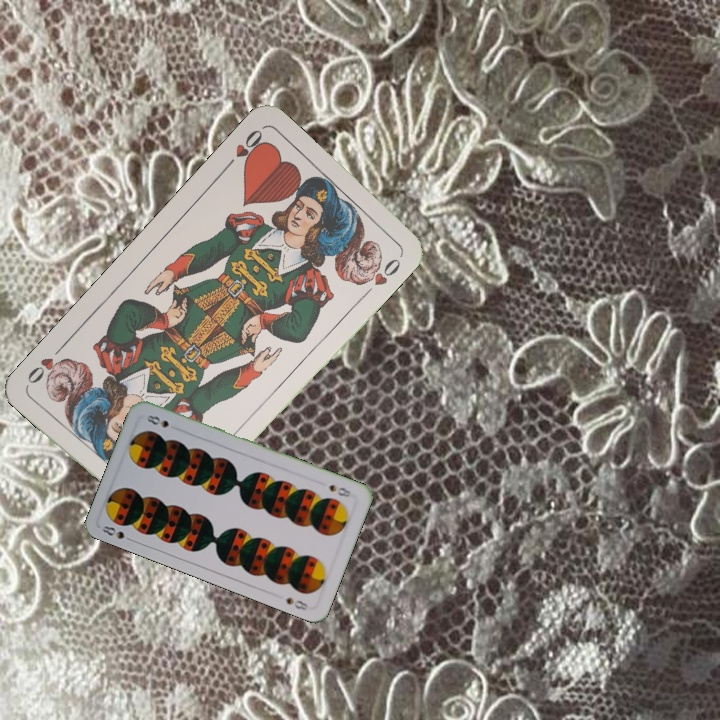HO: (220, 125, 268, 173)
S8: (98, 521, 137, 545), (325, 480, 355, 500)
